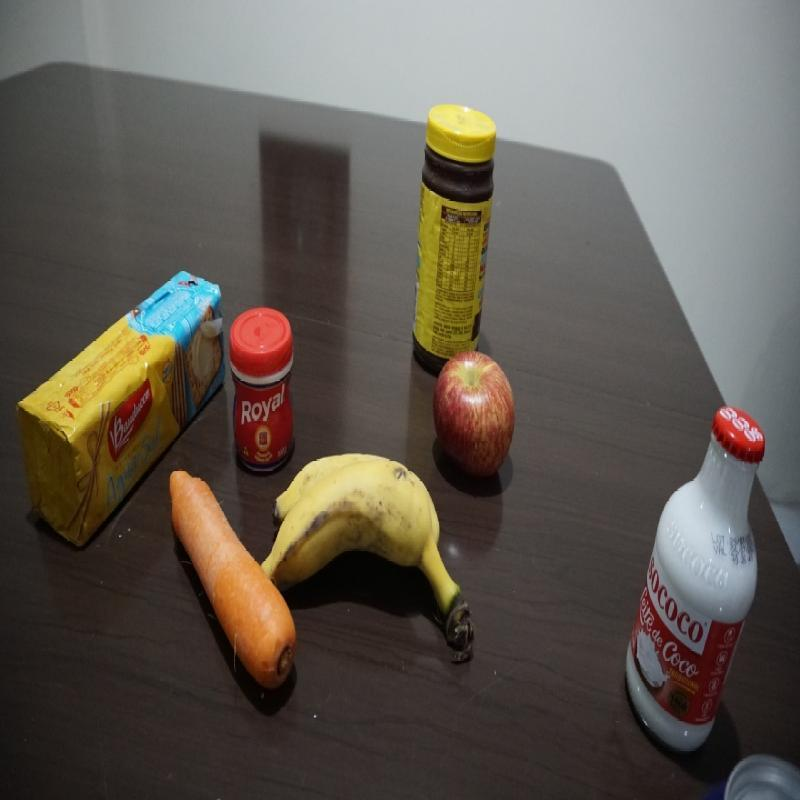Apple: (438, 349, 516, 473)
Banana: (276, 464, 455, 638)
Carrot: (165, 468, 269, 714)
Chocolate Powder: (415, 96, 499, 335)
Coconut Milk: (625, 374, 766, 750)
Cracker: (11, 265, 226, 469)
Yeast: (229, 293, 299, 469)
